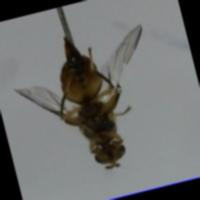Oriental-fruit-fly: (0, 15, 174, 193)
